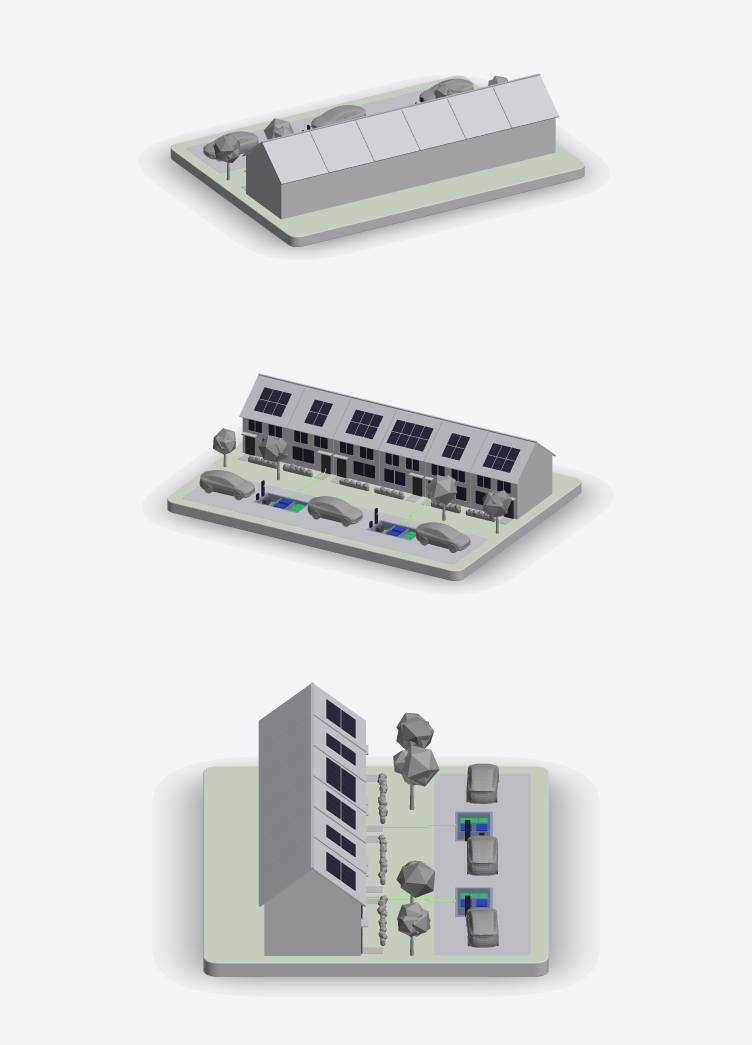
Rendered from sett-scroll-doelgroep-overheid.glb.
3 renders of one model, top to bottom at view 1: azimuth 30°, elevation 25°; view 2: azimuth 150°, elevation 25°; view 3: azimuth 270°, elevation 25°, orthographic. The views are drawn at different scales.
Visible parts, largest first — view 1: house, object 73, contact_shadow, object 74, car (×2); view 2: house, object 73, object 74, contact_shadow, car (×3), object 86; view 3: object 73, house, object 74, contact_shadow, car (×3), object 86, object 90, object 80.
Part boxes in pixels (left/top/right/bottom): house: left=241, top=73, right=559, bottom=219; object 73: left=170, top=75, right=584, bottom=246; contact_shadow: left=163, top=152, right=585, bottom=249; object 74: left=186, top=88, right=429, bottom=173; car (×2): left=203, top=105, right=365, bottom=161; house: left=238, top=373, right=555, bottom=524; object 73: left=167, top=443, right=581, bottom=580; object 74: left=183, top=479, right=487, bottom=564; contact_shadow: left=166, top=486, right=588, bottom=583; car (×3): left=199, top=470, right=470, bottom=552; object 86: left=426, top=475, right=457, bottom=504; object 73: left=203, top=766, right=548, bottom=976; house: left=258, top=682, right=387, bottom=955; object 74: left=434, top=773, right=530, bottom=954; contact_shadow: left=182, top=779, right=569, bottom=983; car (×3): left=466, top=763, right=498, bottom=947; object 86: left=401, top=745, right=439, bottom=786; object 90: left=400, top=861, right=434, bottom=897; object 80: left=402, top=716, right=431, bottom=744.
Bounding box in the file's own units: 4215 × 666 × 4215.
Materials: 32 (1 with a texture image).
